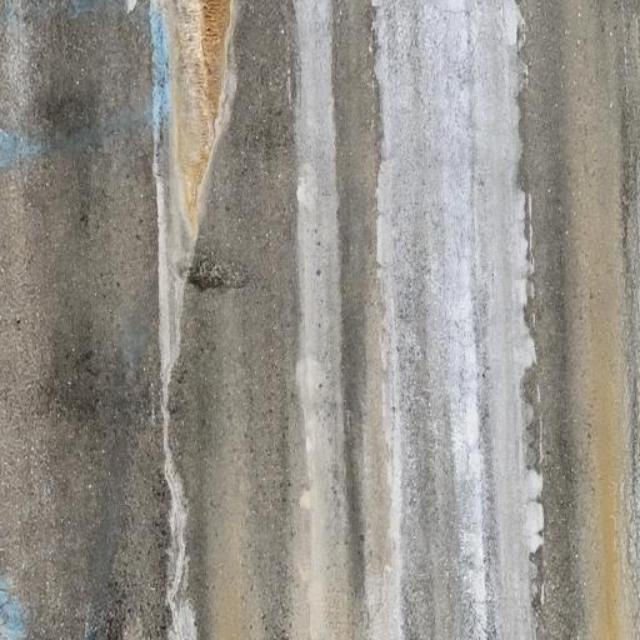D01: (370, 2, 544, 639), (150, 2, 233, 639), (294, 2, 345, 639)
